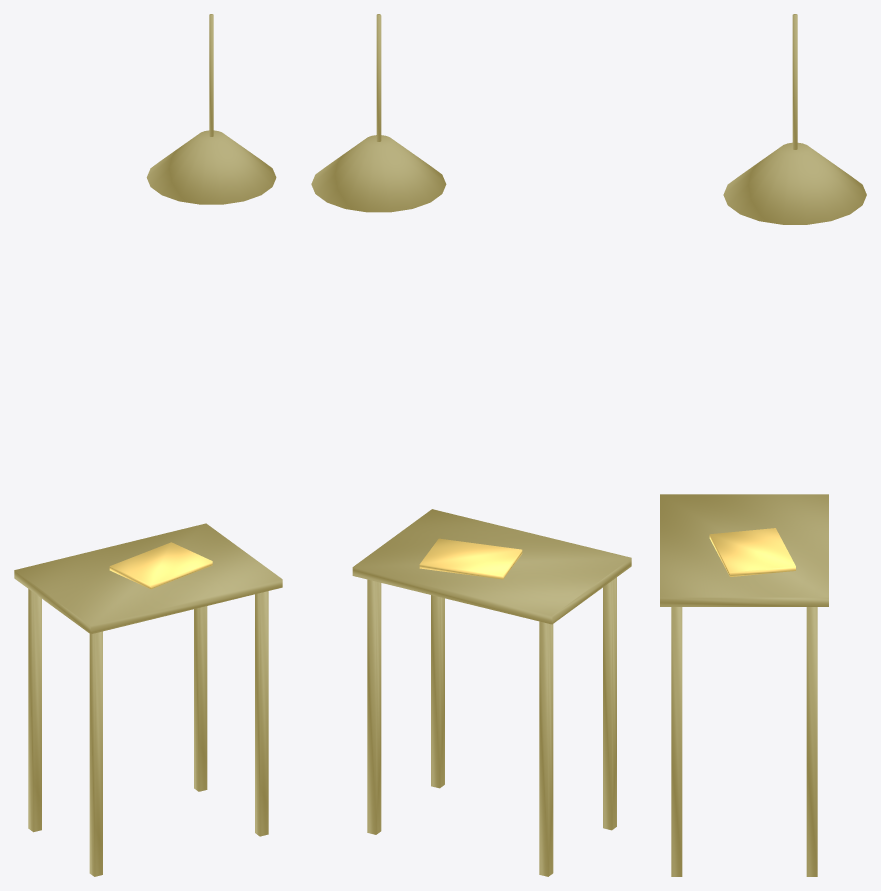
File: noir-interrogation-lamp.glb
The picture shows the model from 3 angles, left to right: view 1: azimuth 30°, elevation 25°; view 2: azimuth 150°, elevation 25°; view 3: azimuth 270°, elevation 25°; orthographic projection. The views are drawn at different scales.
Visible parts, largest first — view 1: TS_StageProp_noir-interrogation-lamp; view 2: TS_StageProp_noir-interrogation-lamp; view 3: TS_StageProp_noir-interrogation-lamp.
Boxes of the visible parts, x1,y1,x2,y2 form: TS_StageProp_noir-interrogation-lamp: (14,14,282,876); TS_StageProp_noir-interrogation-lamp: (311,14,631,876); TS_StageProp_noir-interrogation-lamp: (660,14,866,876).
Size of the model in its own units: 0.7174 by 2.25 by 0.49.
1 material, 1 textured.
